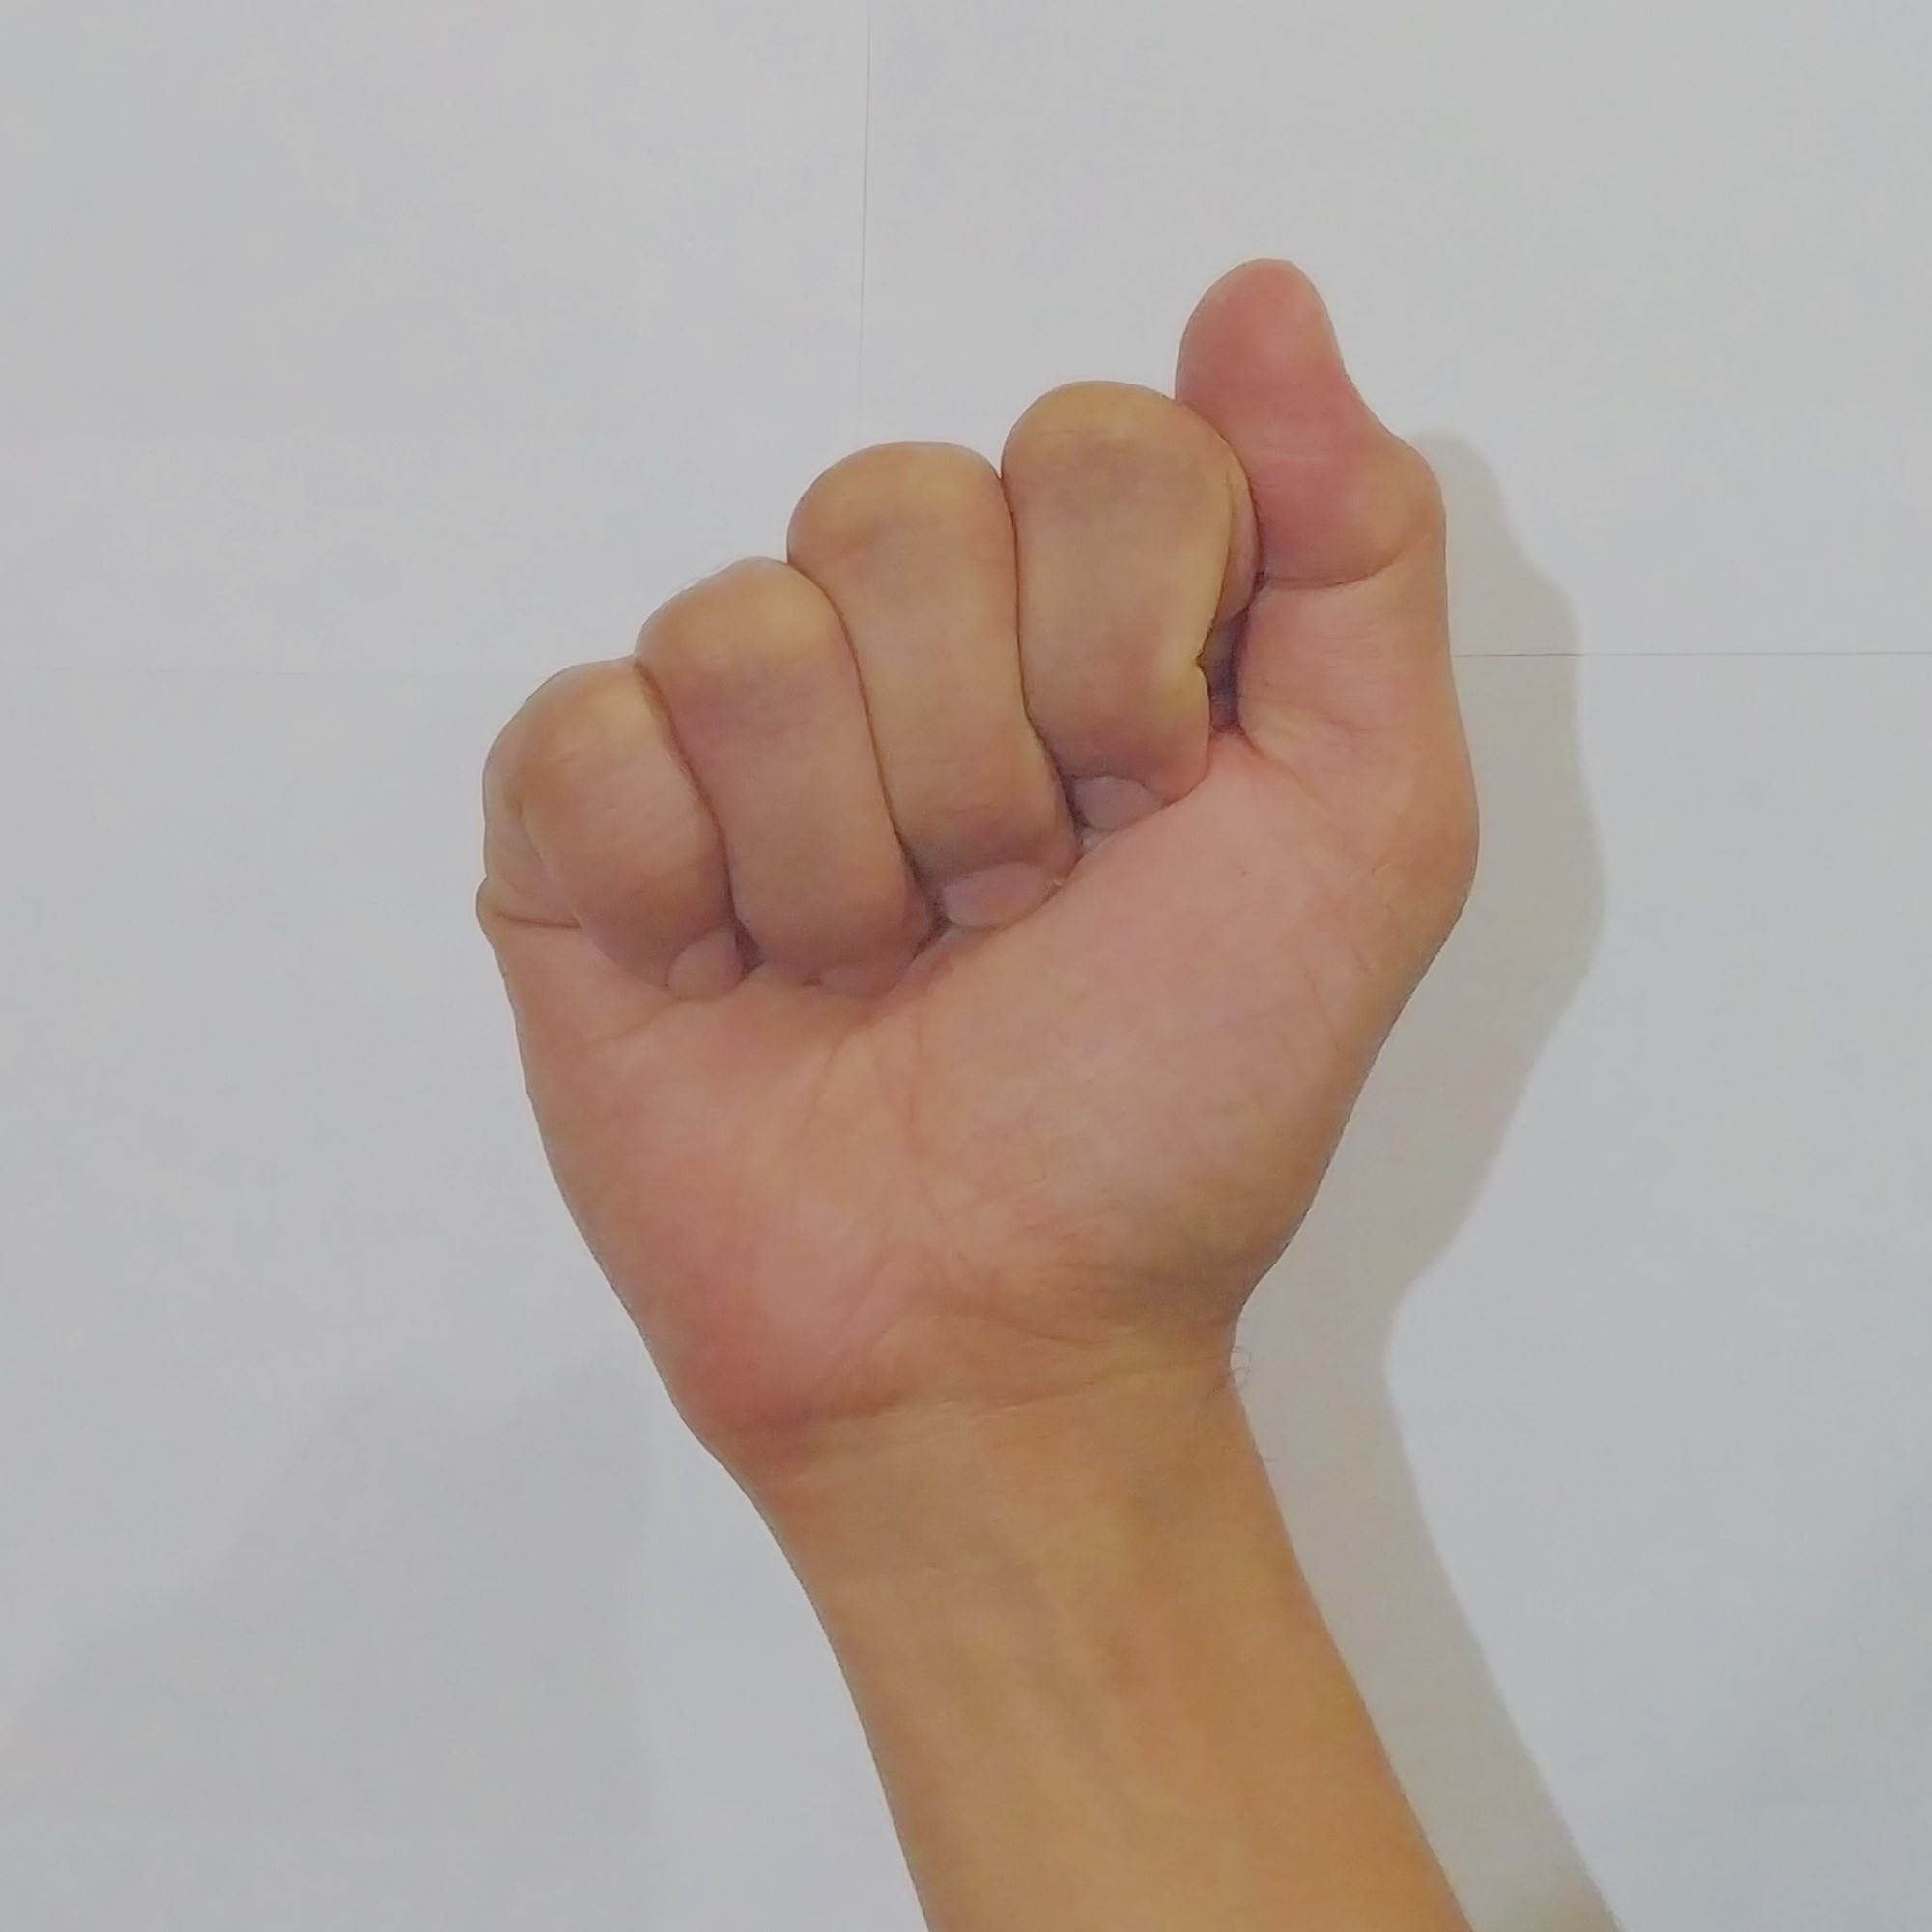A: (455, 239, 1504, 1430)
